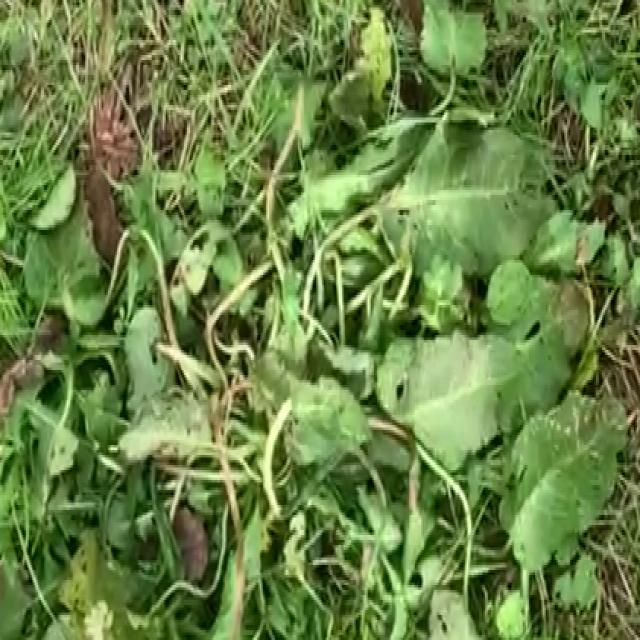organic waste: (14, 12, 629, 640)
